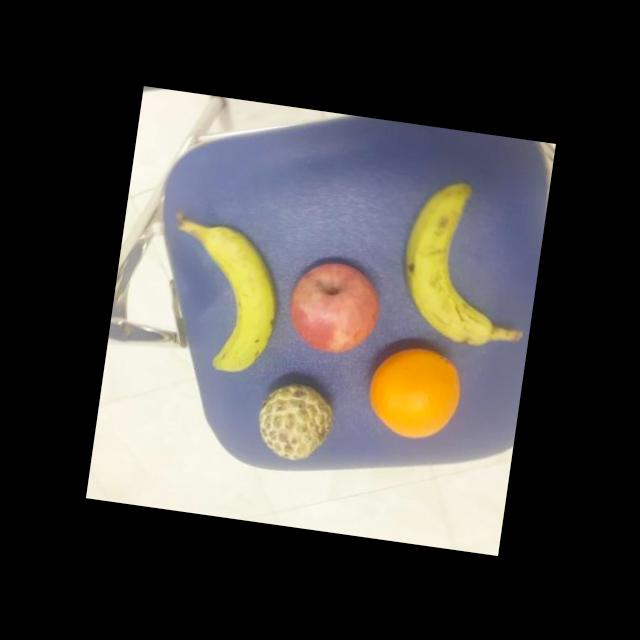Sakya fruit: (250, 374, 340, 465)
apple: (280, 253, 386, 359)
banana: (392, 174, 512, 349), (180, 222, 288, 380)
orange: (360, 340, 464, 444)
